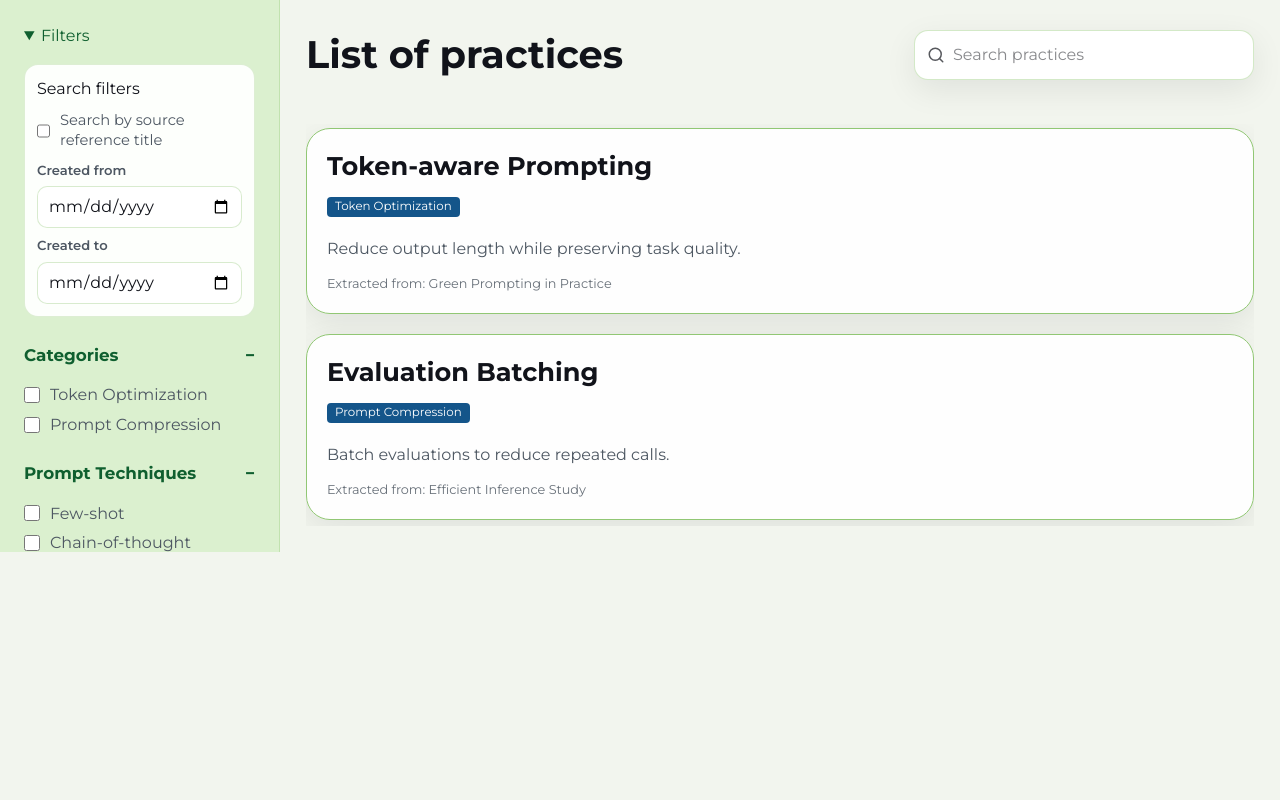
Catalog page requirements › FR1/US9: searches by practice name and description
Type "batch" into the search field with placeholder "Search practices".
click(1097, 55); type("batch")  # box [953,31,1241,79]
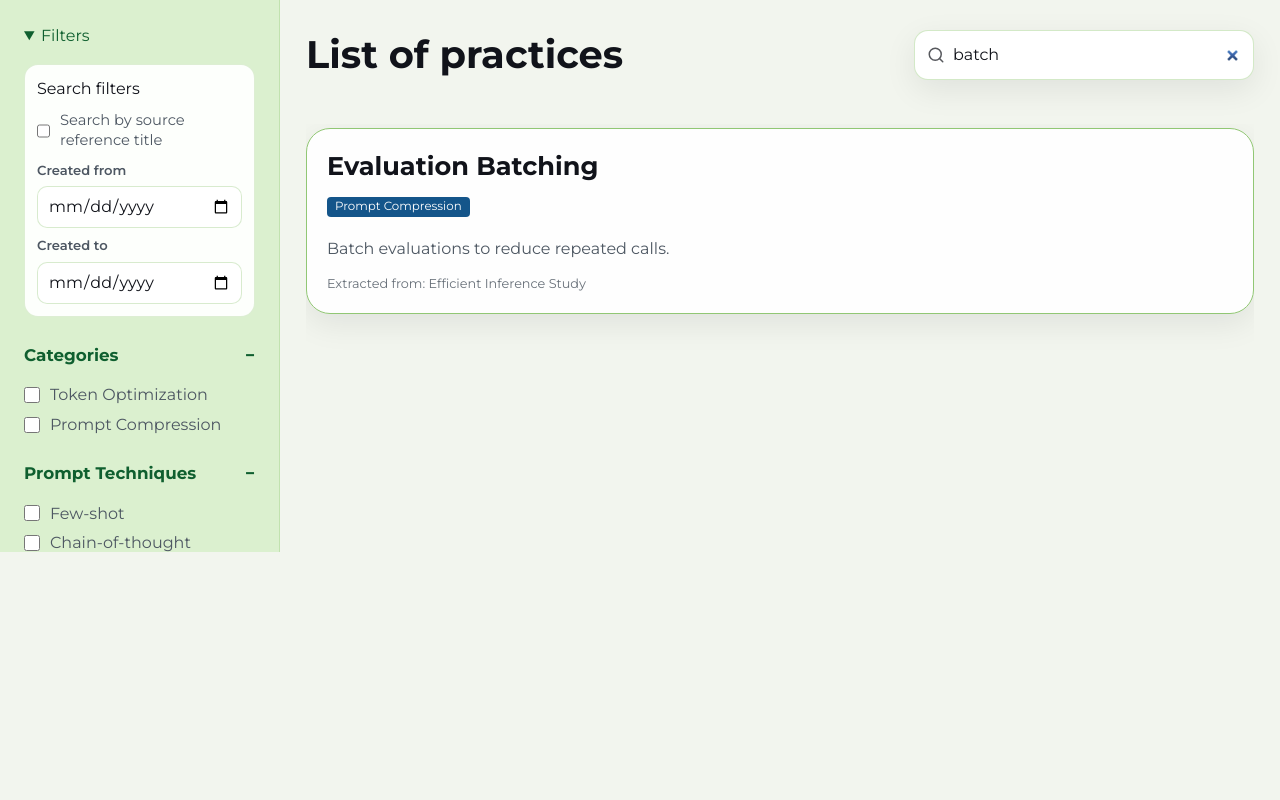
expect the link "Evaluation Batching" is shown: met, box [306,128,1254,314]
expect the link "Token-aware Prompting" is gone: met
